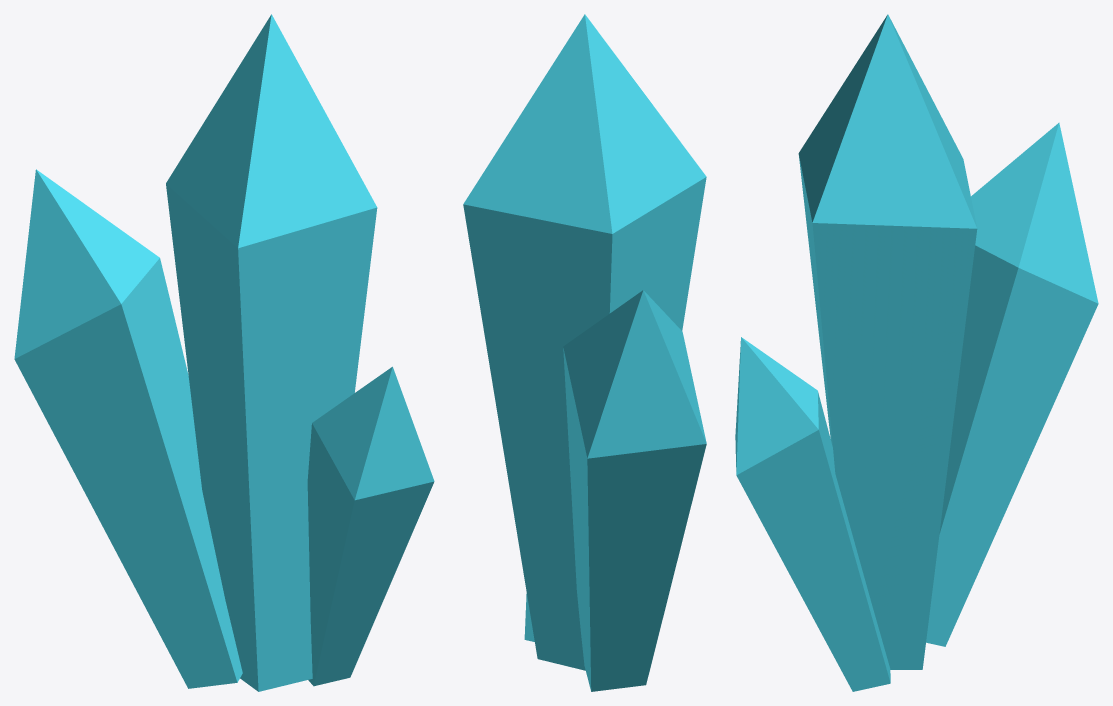
File: crystal3.fbx
3 renders of one model, left to right at view 1: azimuth 30°, elevation 25°; view 2: azimuth 150°, elevation 25°; view 3: azimuth 270°, elevation 25°, orthographic. The views are drawn at different scales.
Parts seen in each view (by area): view 1: crystal1.002; view 2: crystal1.002; view 3: crystal1.002.
Part boxes in pixels (<box>): crystal1.002: <box>14,14,434,691</box>; crystal1.002: <box>463,14,706,691</box>; crystal1.002: <box>735,14,1098,691</box>.
Bounding box in the file's own units: 115 × 265 × 134.
